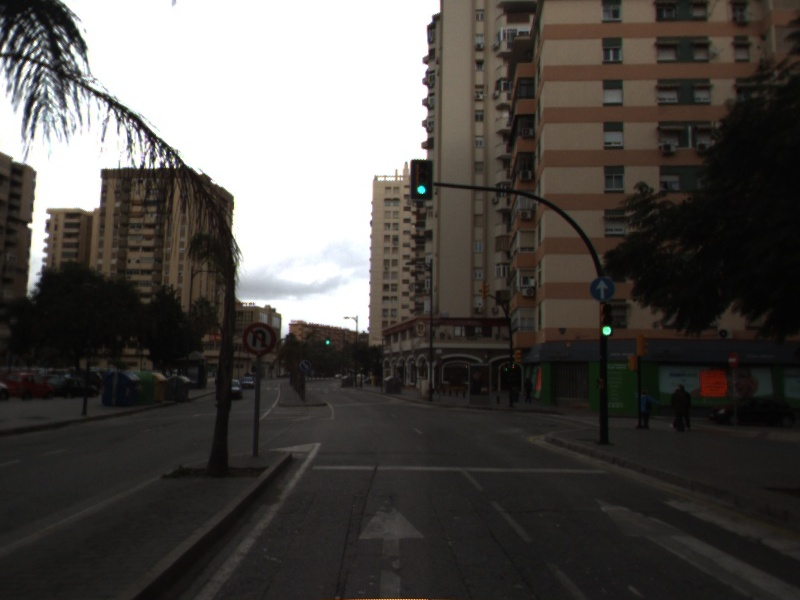STRAIGHT: (354, 496, 430, 600)
